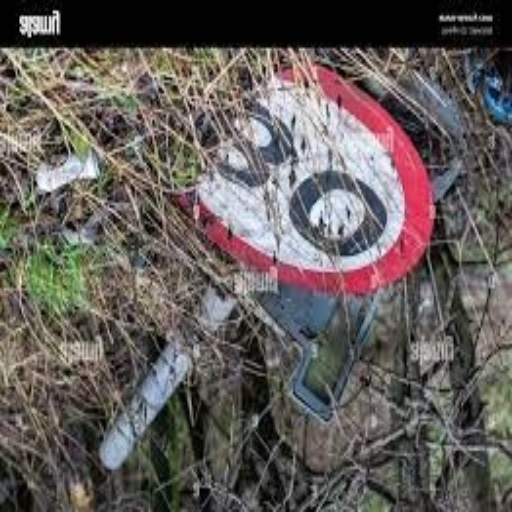Speed limit: (156, 58, 434, 300)
